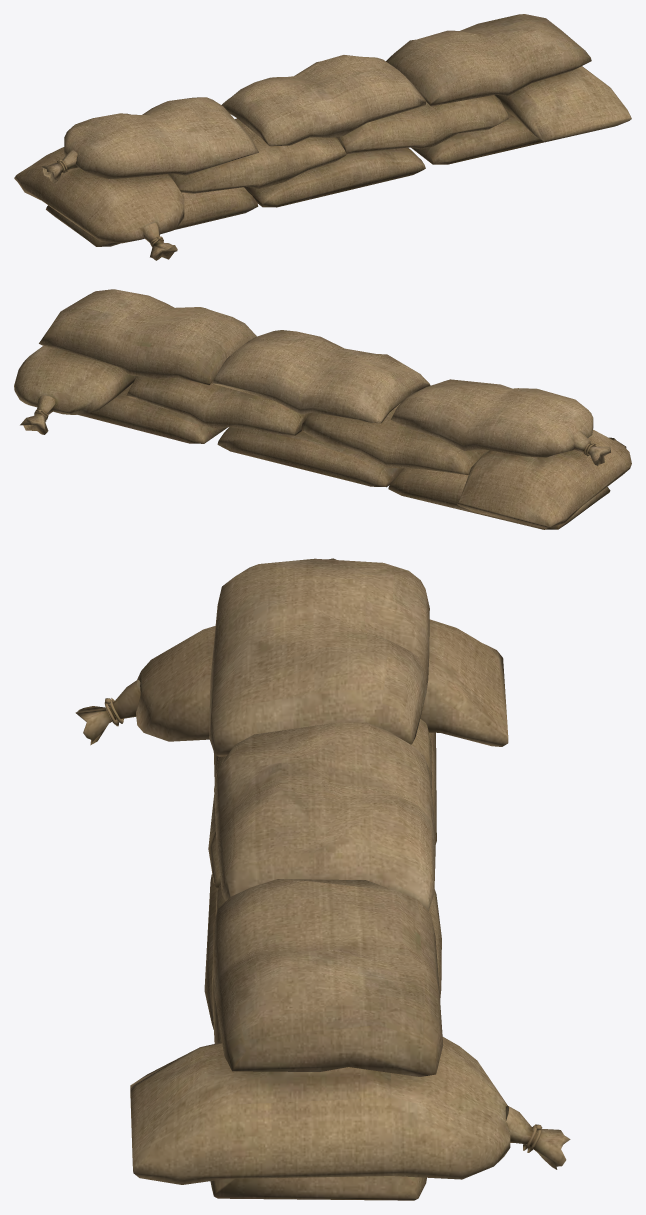
Rendered from sandbags.glb.
The picture shows the model from 3 angles, top to bottom: view 1: azimuth 30°, elevation 25°; view 2: azimuth 150°, elevation 25°; view 3: azimuth 270°, elevation 25°; orthographic projection. The views are drawn at different scales.
Visible parts, largest first — view 1: sandbags_body; view 2: sandbags_body; view 3: sandbags_body.
Part boxes in pixels (x1,y1,x2,y2): sandbags_body: [14, 14, 631, 260]; sandbags_body: [14, 289, 631, 529]; sandbags_body: [75, 558, 570, 1200].
Bounding box in the file's own units: 1.94 × 0.3403 × 0.7687.
Materials: 1 (1 with a texture image).
